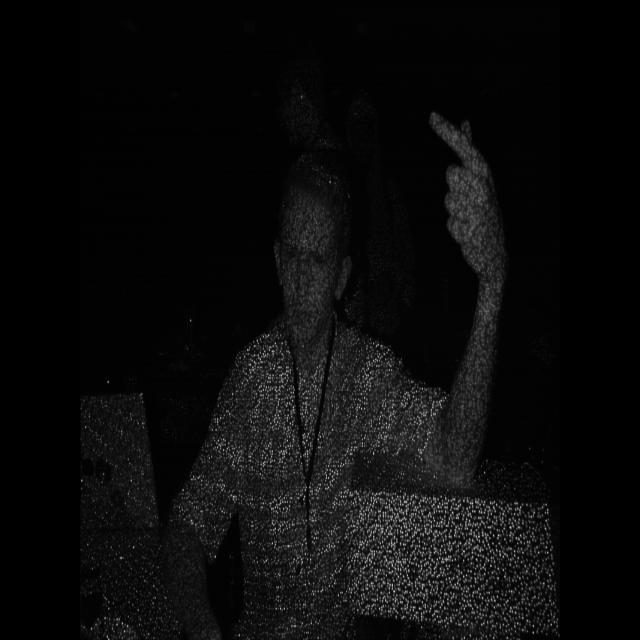G: (420, 88, 519, 302)
